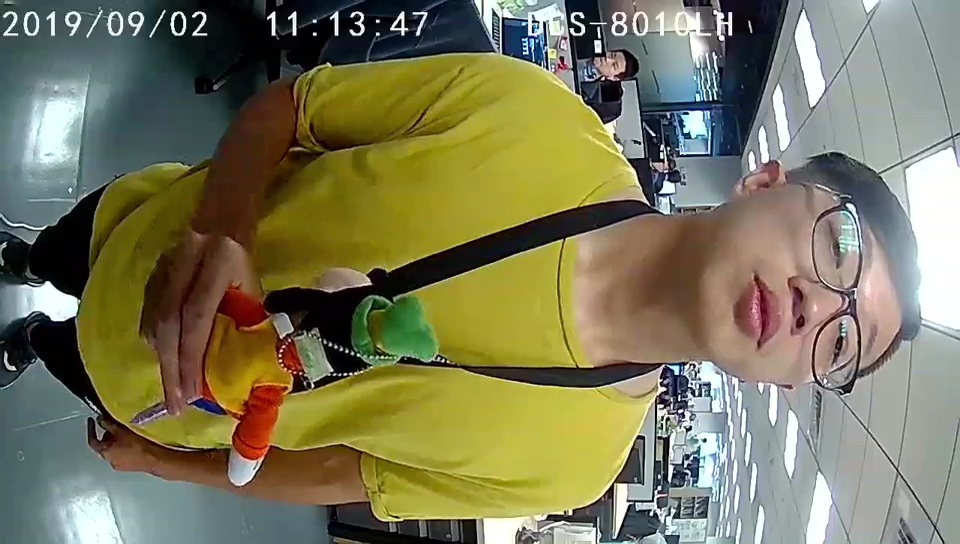goofy: (224, 271, 438, 484)
